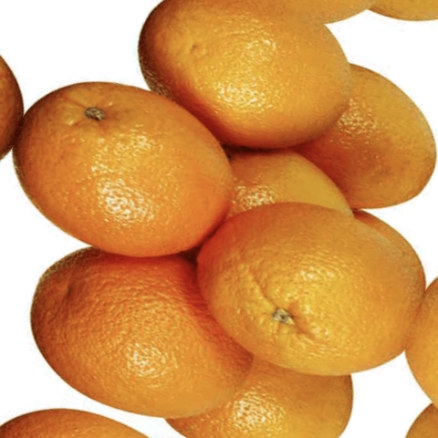orange: (1, 205, 291, 438), (180, 171, 438, 415), (0, 44, 261, 285), (122, 0, 385, 173)
